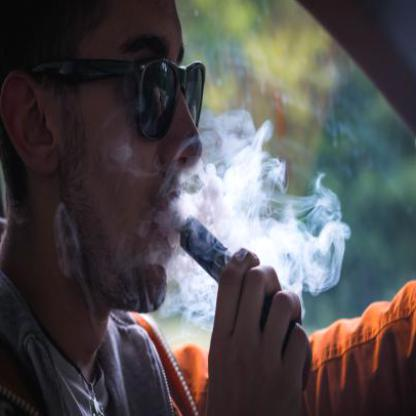person: (0, 0, 210, 412)
smoke: (188, 138, 338, 309)
